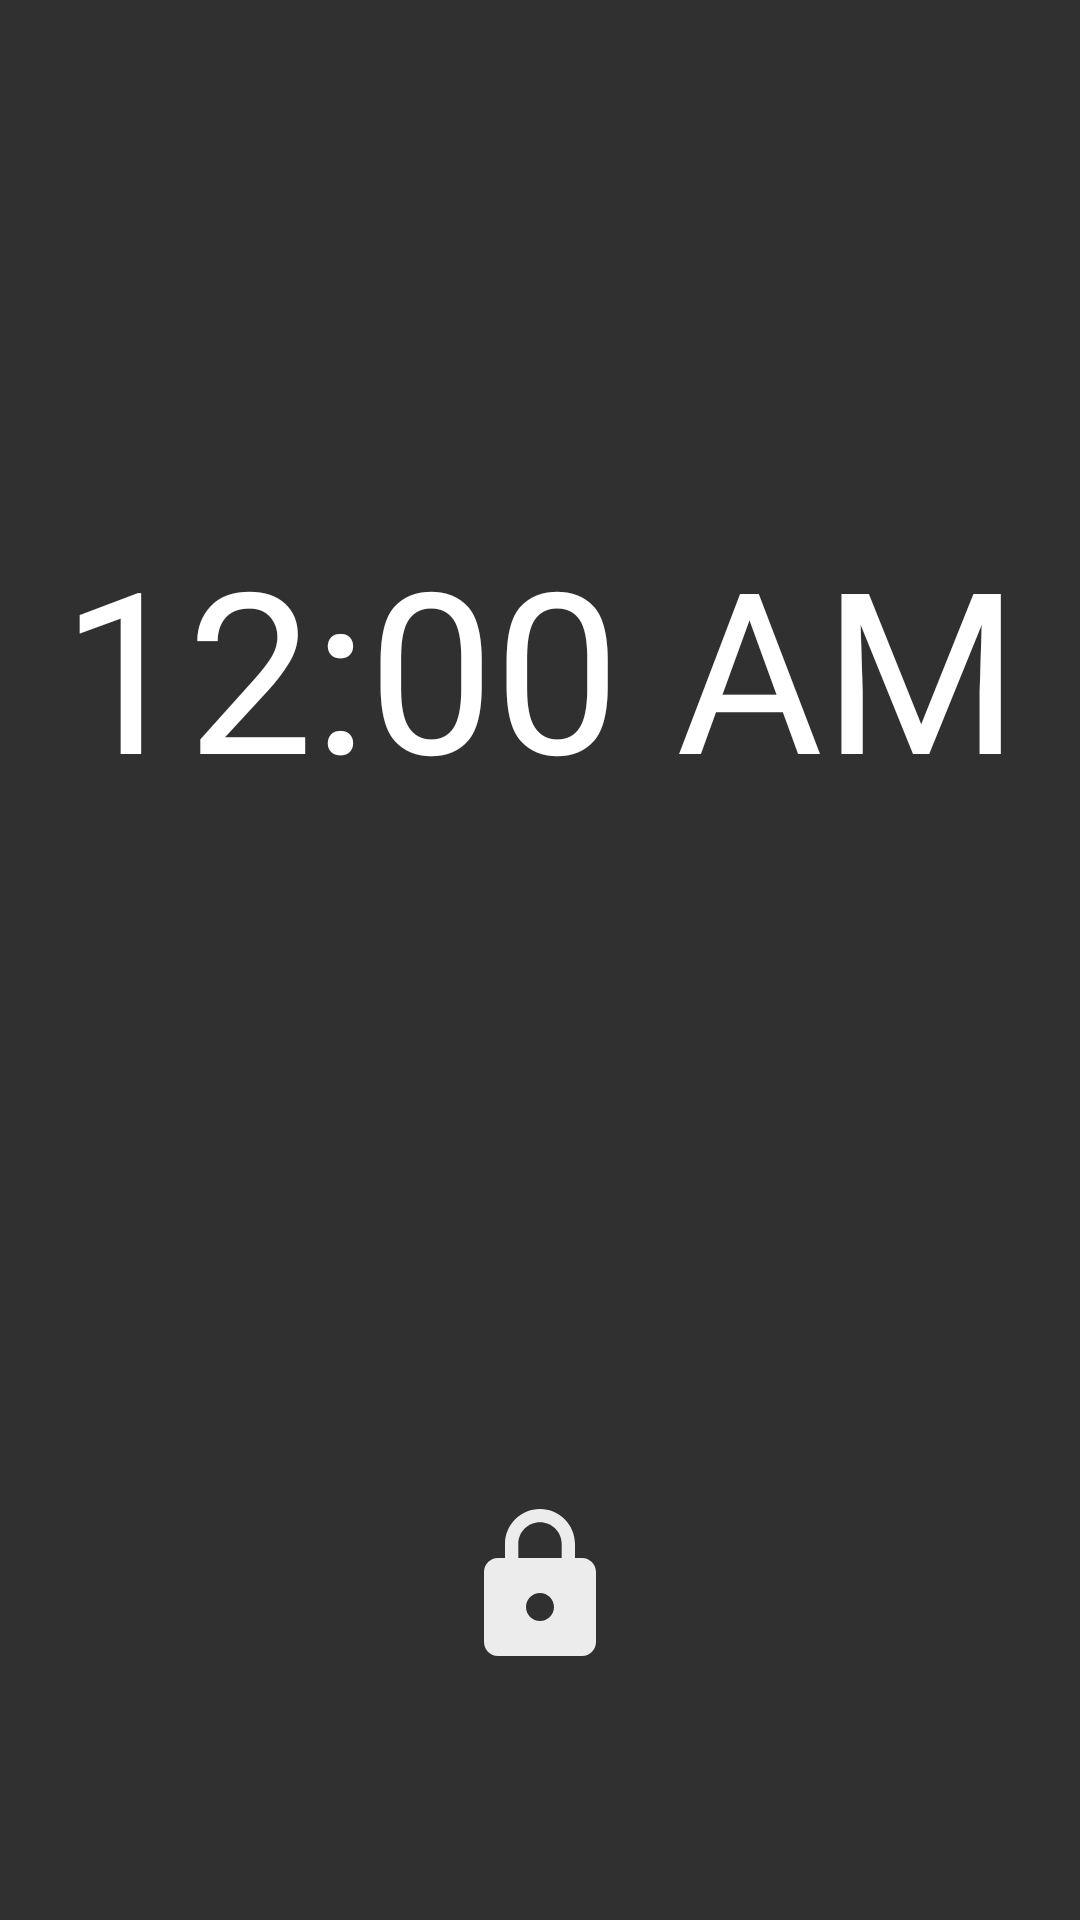

Named icons in this screenshot (1080px x 1920px) and their centers, (x,y):
lock: (540,1582)
